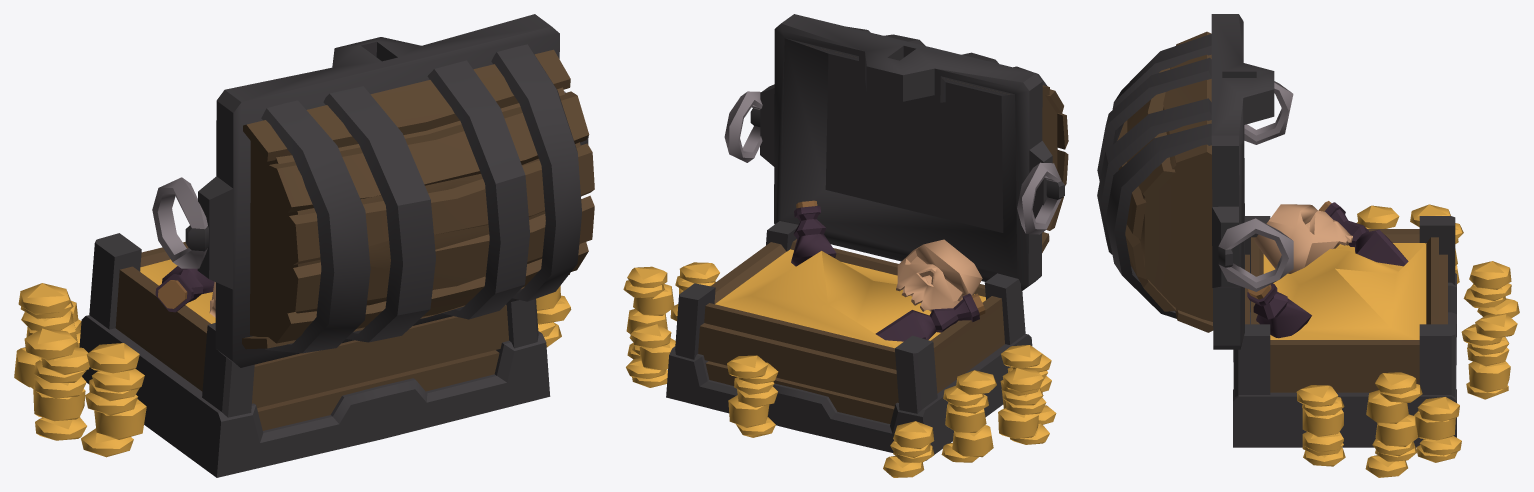
Rendered from chest-open.glb.
3 views of the same model, side by side, from view 1: azimuth 30°, elevation 25°; view 2: azimuth 150°, elevation 25°; view 3: azimuth 270°, elevation 25° (orthographic). The views are drawn at different scales.
Parts seen in each view (by area): view 1: Prop_Chest_Gold; view 2: Prop_Chest_Gold; view 3: Prop_Chest_Gold.
Part boxes in pixels (bbox=[...]): Prop_Chest_Gold: bbox=[14, 14, 594, 477]; Prop_Chest_Gold: bbox=[623, 14, 1068, 477]; Prop_Chest_Gold: bbox=[1097, 14, 1519, 477].
Bounding box in the file's own units: 1.5 × 1.06 × 1.31.
1 material, 1 textured.
